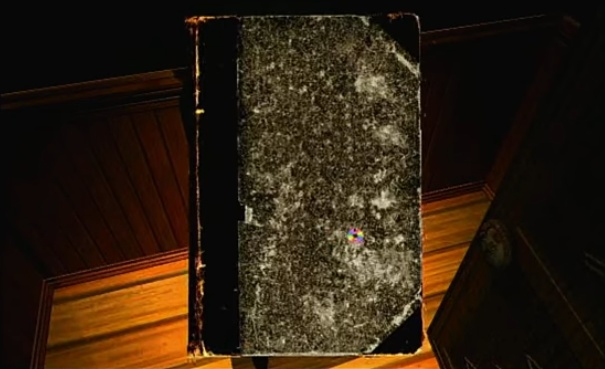Waiting: (343, 225, 366, 244)
